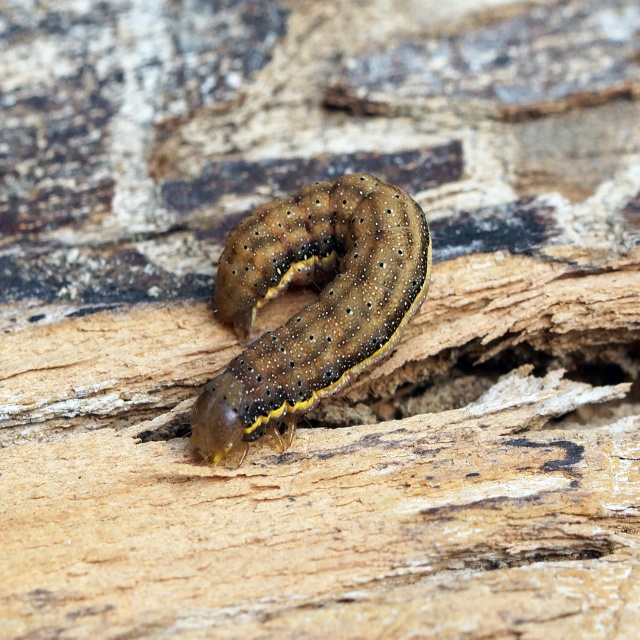Caterpillar: (181, 168, 443, 468)
